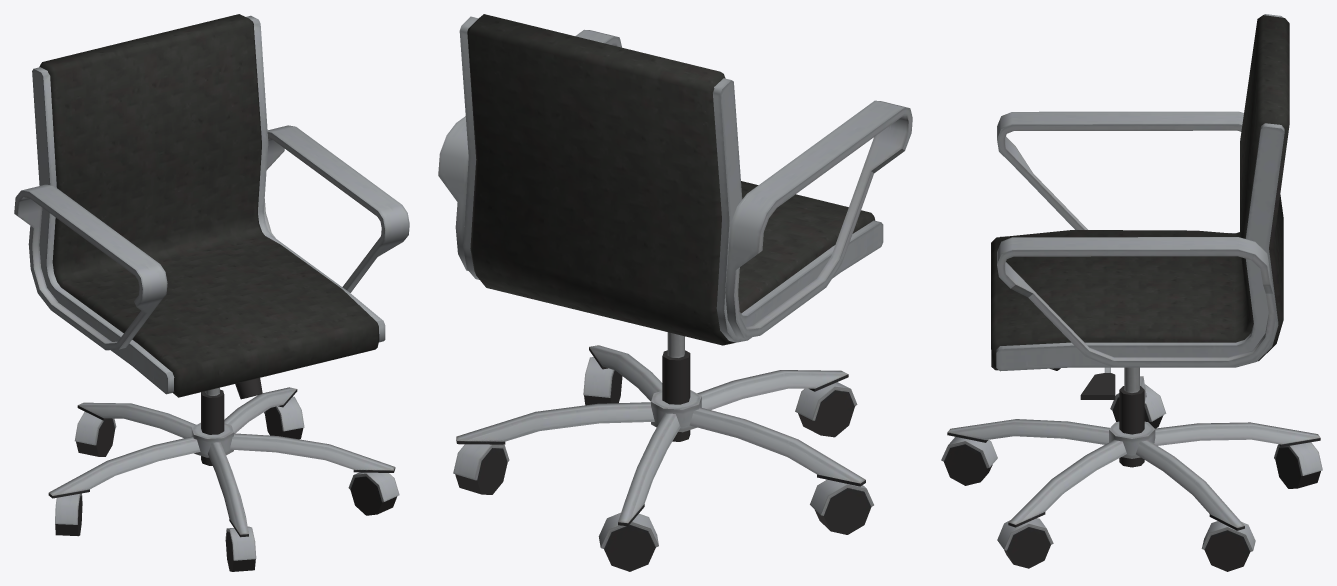
The model's file is office_chair.glb.
The picture shows the model from 3 angles, left to right: view 1: azimuth 30°, elevation 25°; view 2: azimuth 150°, elevation 25°; view 3: azimuth 270°, elevation 25°; orthographic projection. The views are drawn at different scales.
Visible parts, largest first — view 1: OfficeChair_Modern_OfficeChair_Modern_0; view 2: OfficeChair_Modern_OfficeChair_Modern_0; view 3: OfficeChair_Modern_OfficeChair_Modern_0.
Boxes of the visible parts, x1,y1,x2,y2 form: OfficeChair_Modern_OfficeChair_Modern_0: (14, 14, 409, 571); OfficeChair_Modern_OfficeChair_Modern_0: (438, 14, 912, 571); OfficeChair_Modern_OfficeChair_Modern_0: (941, 14, 1322, 571).
Bounding box in the file's own units: 0.75 × 1.01 × 0.791.
Materials: 1 (1 with a texture image).
